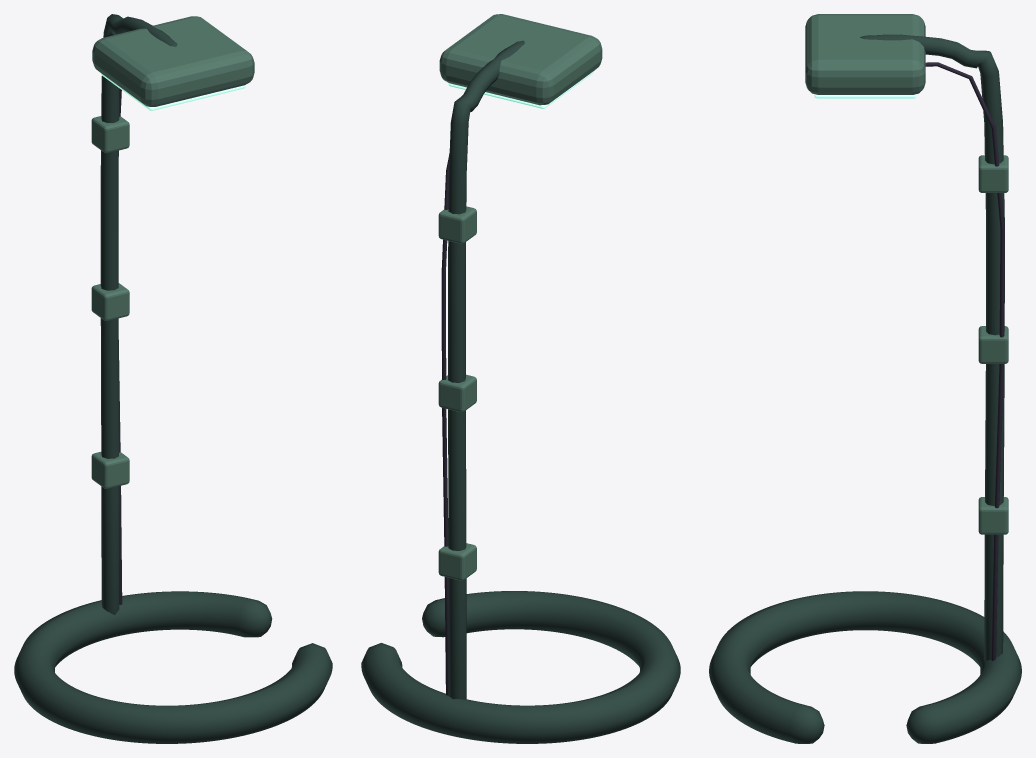
The model's file is single_lamp.glb.
3 views of the same model, side by side, from view 1: azimuth 30°, elevation 25°; view 2: azimuth 150°, elevation 25°; view 3: azimuth 270°, elevation 25° (orthographic).
Parts seen in each view (by area): view 1: Weighted_C_base, Hood, Mast, Height_collar.001, Height_collar.002, Height_collar, Clipped_cable; view 2: Weighted_C_base, Mast, Hood, Clipped_cable, Height_collar, Height_collar.002, Height_collar.001; view 3: Weighted_C_base, Mast, Hood, Clipped_cable, Height_collar, Height_collar.002, Height_collar.001.
Part boxes in pixels (x1,y1,x2,y2): Weighted_C_base: [14, 591, 332, 743]; Hood: [92, 16, 254, 106]; Mast: [100, 14, 177, 614]; Height_collar.001: [91, 283, 129, 321]; Height_collar.002: [91, 116, 129, 153]; Height_collar: [91, 452, 129, 488]; Clipped_cable: [118, 88, 122, 604]; Weighted_C_base: [361, 591, 680, 743]; Mast: [448, 40, 524, 699]; Hood: [439, 14, 602, 105]; Clipped_cable: [441, 153, 449, 695]; Height_collar: [438, 543, 476, 580]; Height_collar.002: [438, 206, 476, 243]; Height_collar.001: [438, 374, 476, 412]; Weighted_C_base: [709, 591, 1021, 743]; Mast: [860, 34, 1004, 661]; Hood: [805, 14, 925, 94]; Clipped_cable: [925, 62, 1004, 660]; Height_collar: [978, 497, 1008, 534]; Height_collar.002: [978, 155, 1008, 192]; Height_collar.001: [978, 326, 1008, 363].
Bounding box in the file's own units: 0.8286 × 1.92 × 0.83.
